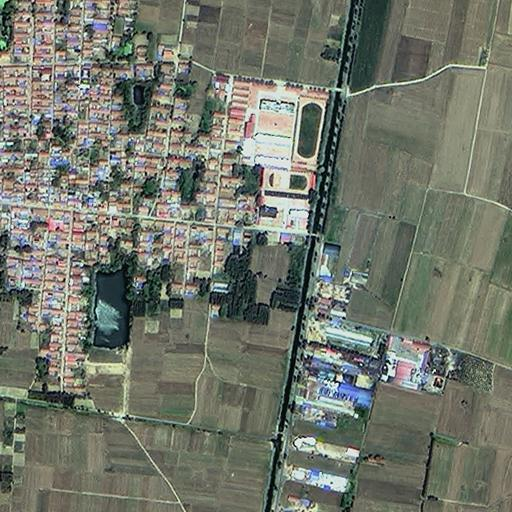school: (255, 80, 328, 197)
